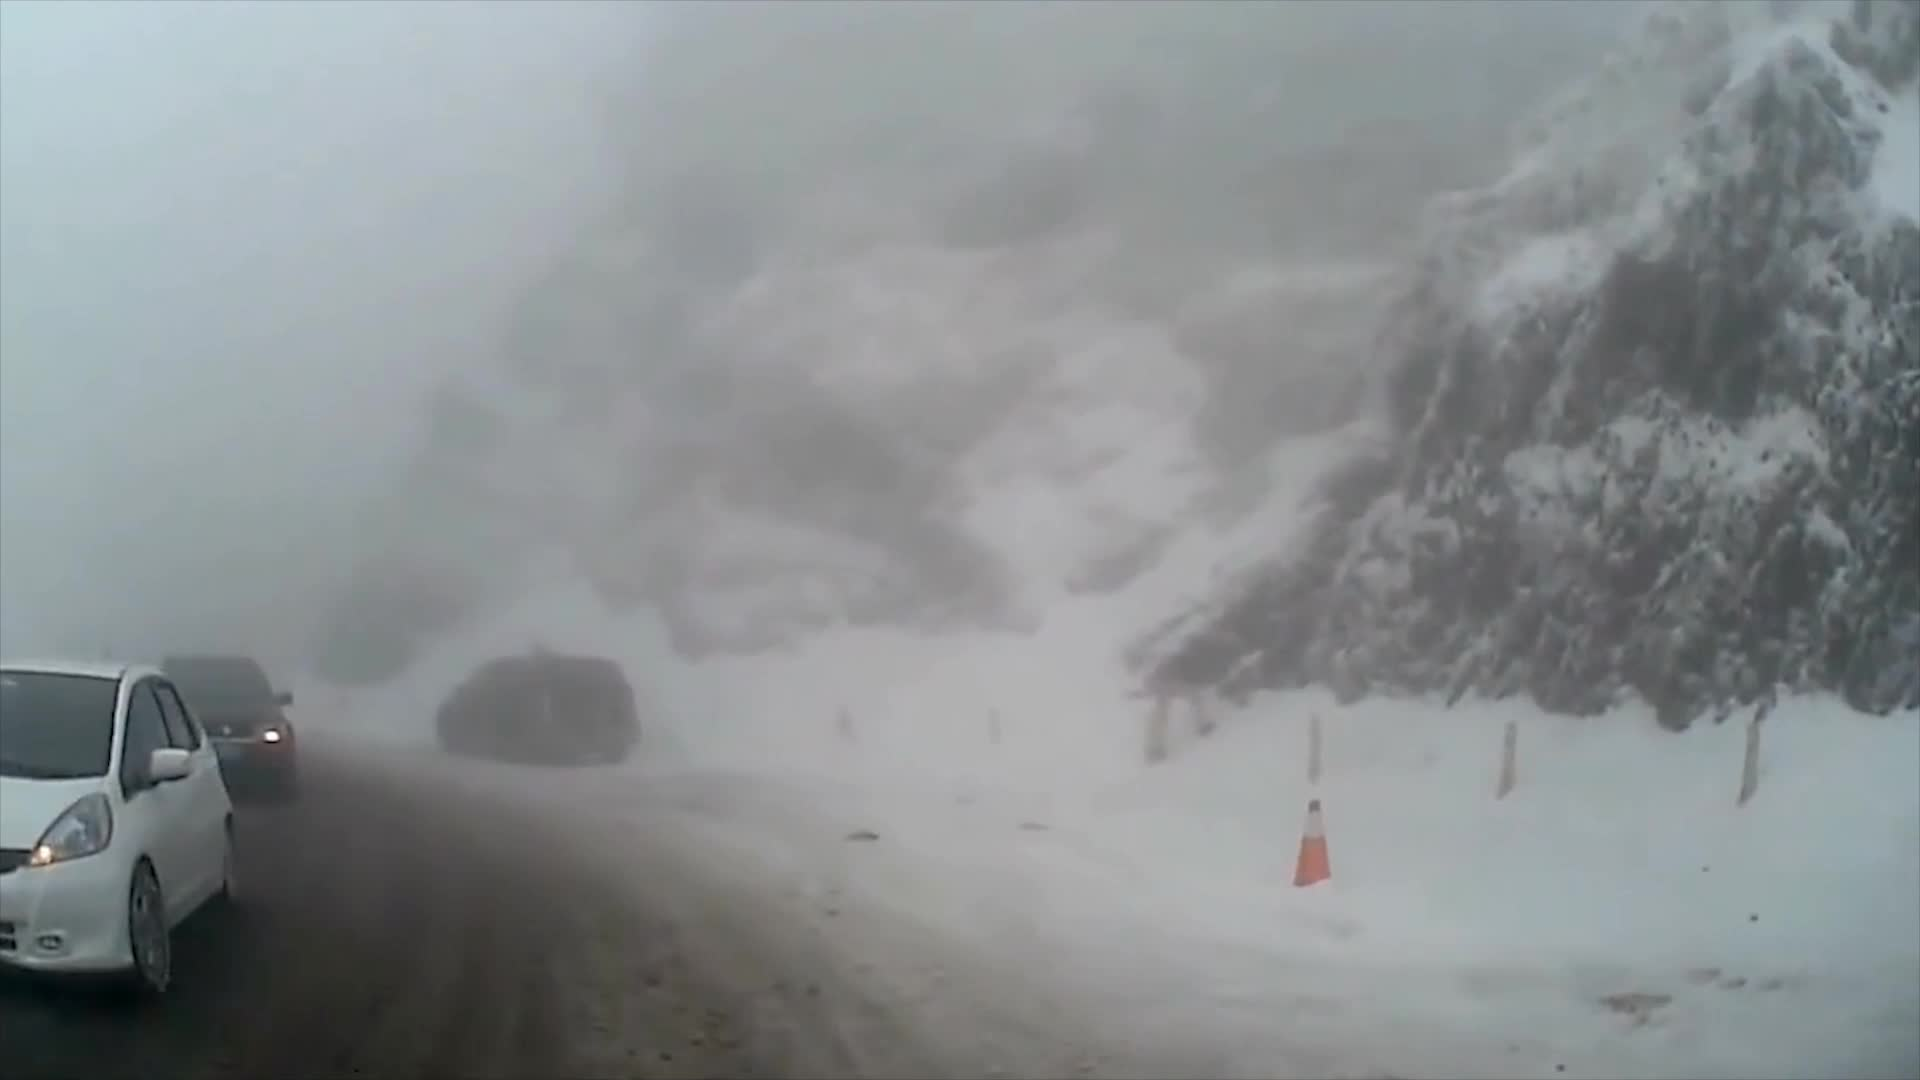vehicle: (0, 653, 247, 1001), (127, 647, 299, 807), (436, 651, 640, 765)
